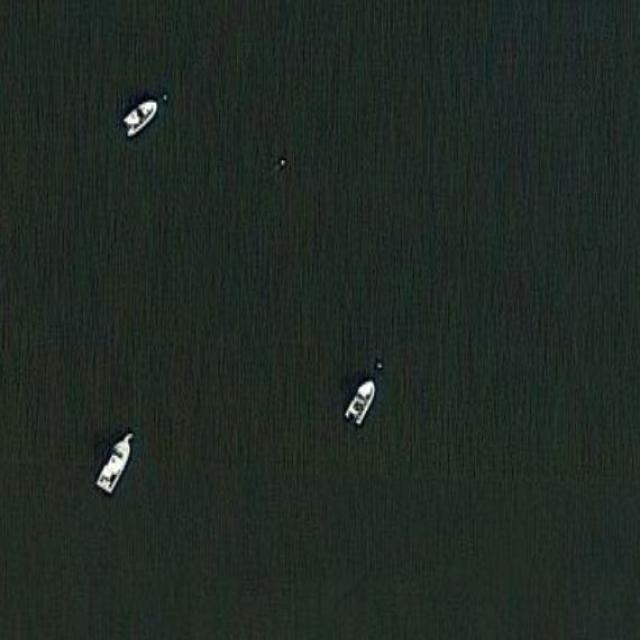ship: (88, 432, 140, 499), (340, 369, 380, 432), (120, 92, 168, 140)
